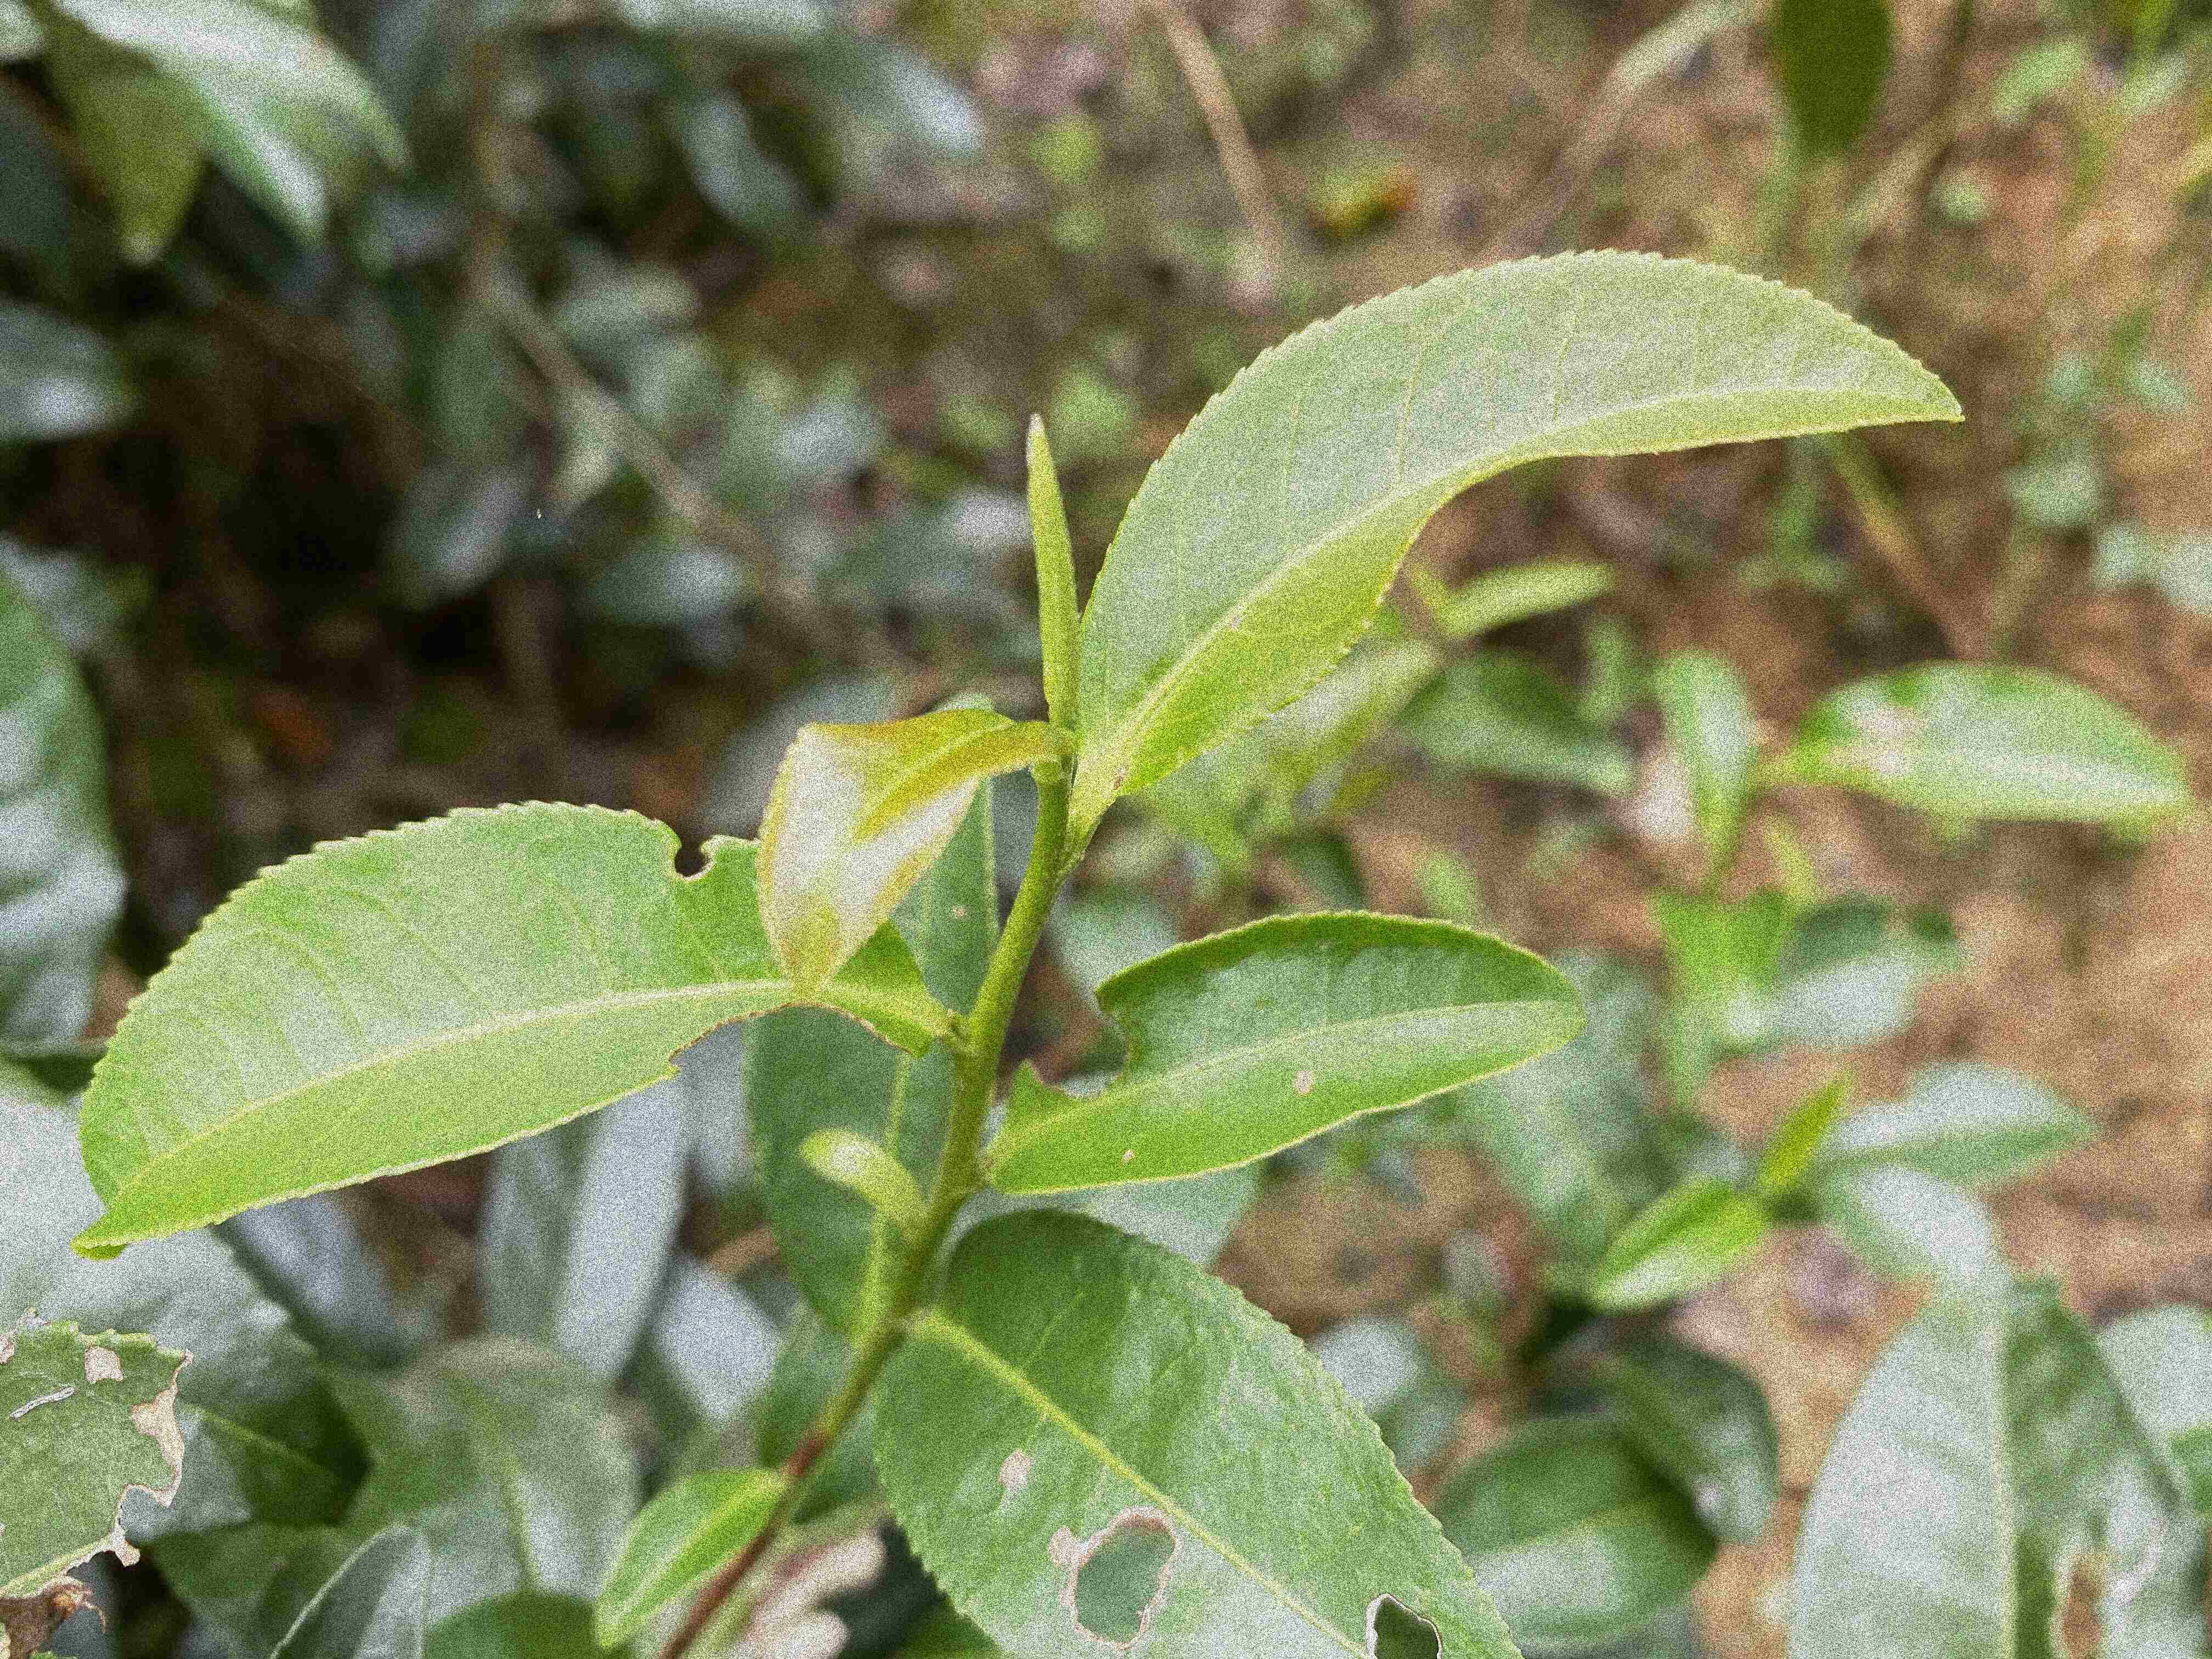chihuo_high: (68, 803, 946, 1262), (871, 1209, 1524, 1657)
chihuo_low: (993, 906, 1588, 1199)
healthy: (1076, 247, 1966, 800)
tanju_high: (2, 1309, 195, 1657)
tanju_low: (758, 706, 1078, 999)
